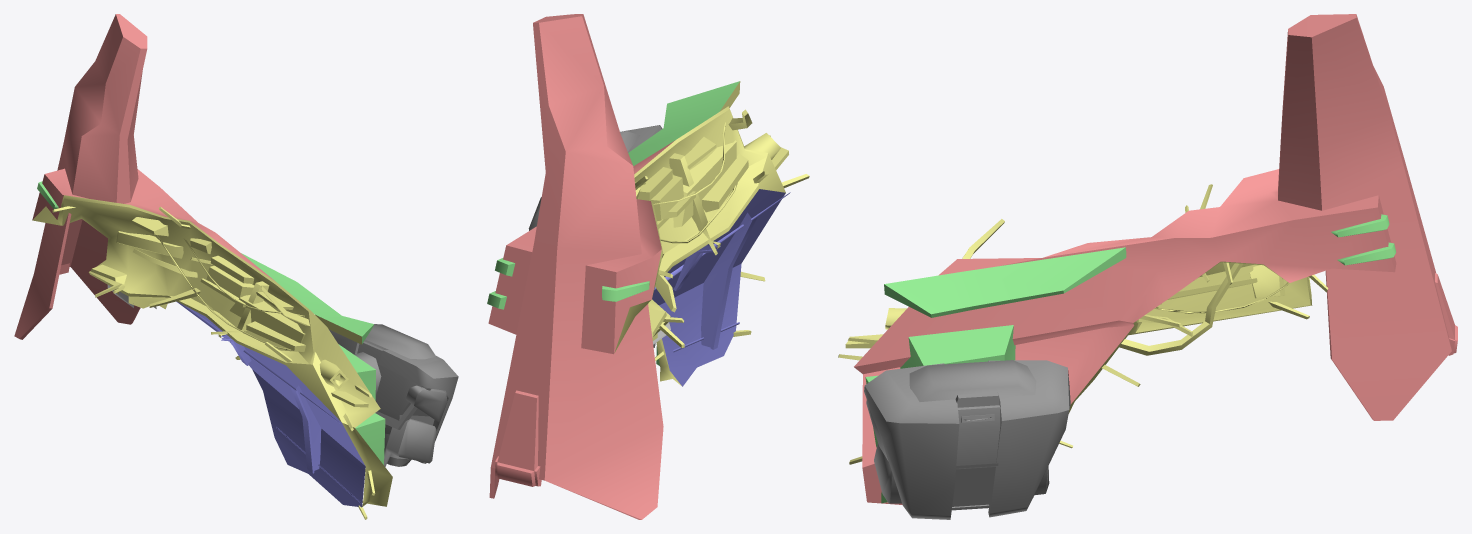
The model's file is SM_vehicle_dropship_raiders_A_debris_rearOutside.gltf.
The picture shows the model from 3 angles, left to right: view 1: azimuth 30°, elevation 25°; view 2: azimuth 150°, elevation 25°; view 3: azimuth 270°, elevation 25°; orthographic projection. The views are drawn at different scales.
Visible parts, largest first — view 1: SM_vehicle_dropship_raiders_A_debris_rearOutside; view 2: SM_vehicle_dropship_raiders_A_debris_rearOutside; view 3: SM_vehicle_dropship_raiders_A_debris_rearOutside.
Part boxes in pixels (bbox=[...]): SM_vehicle_dropship_raiders_A_debris_rearOutside: bbox=[14, 14, 458, 519]; SM_vehicle_dropship_raiders_A_debris_rearOutside: bbox=[487, 14, 809, 519]; SM_vehicle_dropship_raiders_A_debris_rearOutside: bbox=[838, 14, 1457, 519].
Bounding box in the file's own units: 5.6 × 8.26 × 10.15.
